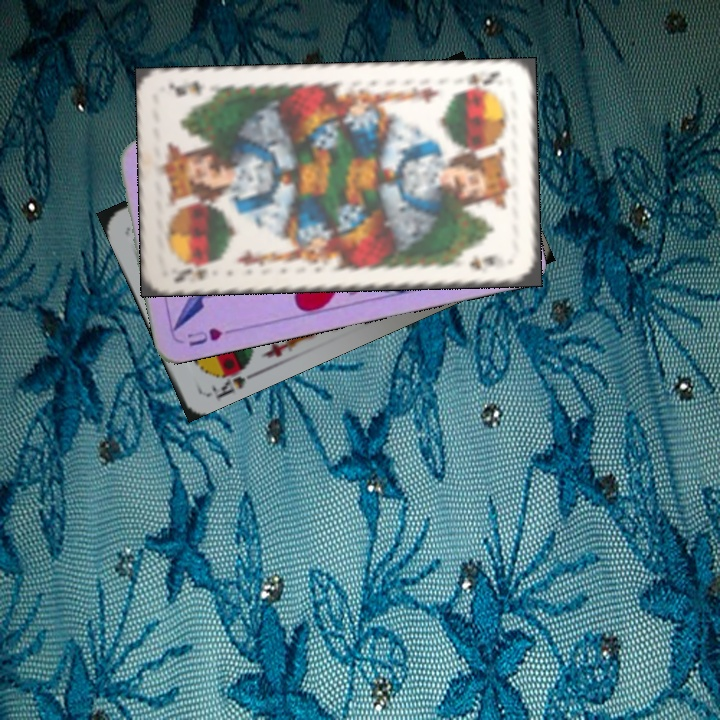HU: (183, 323, 237, 349)
SK: (207, 356, 260, 401), (452, 67, 503, 94), (170, 259, 218, 286)
